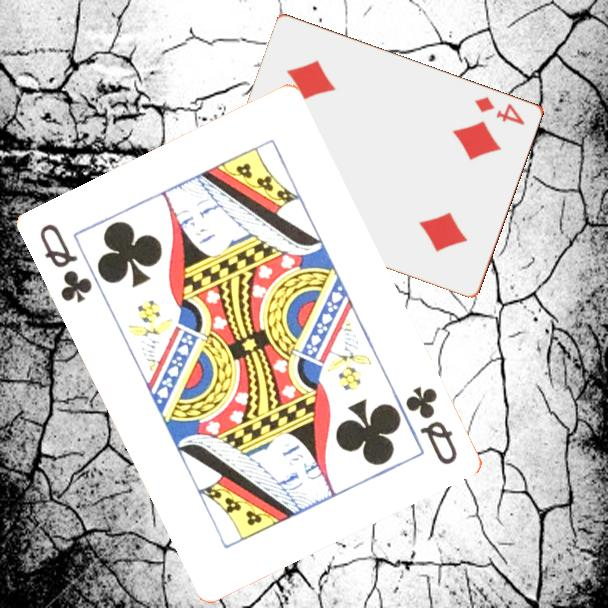c12: (36, 220, 96, 306), (402, 383, 461, 468)
d04: (471, 93, 528, 128)
